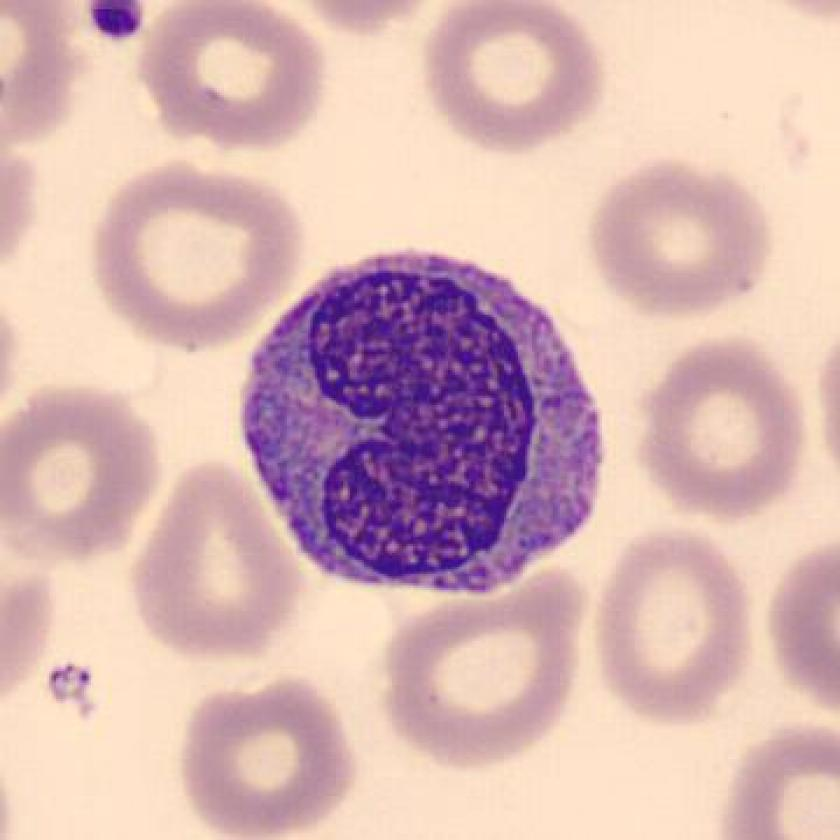monocyte: (225, 226, 629, 628)
